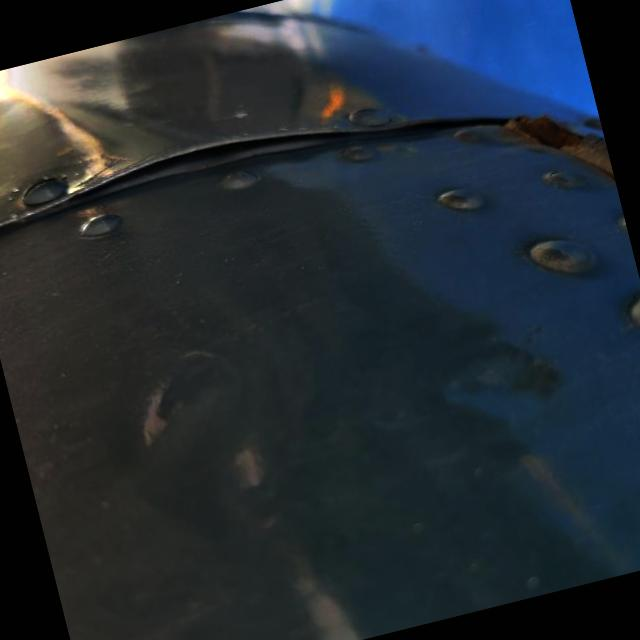dent: (314, 371, 478, 538), (314, 56, 448, 218)
